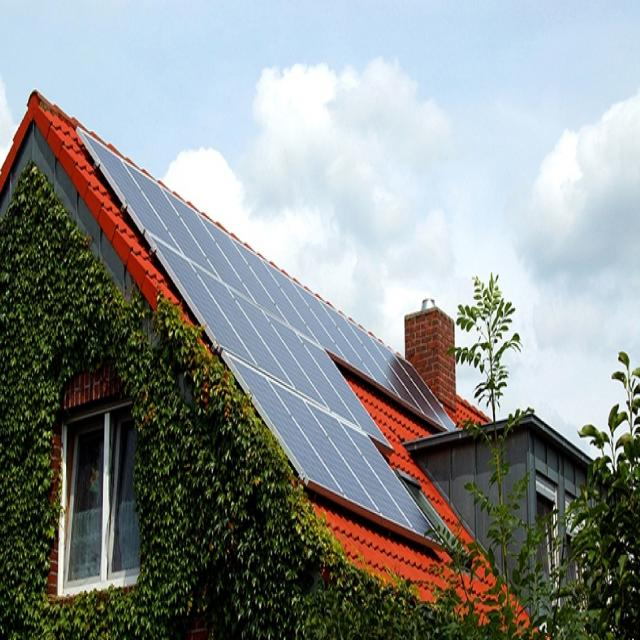clean-solar-panel: (78, 129, 454, 543)
